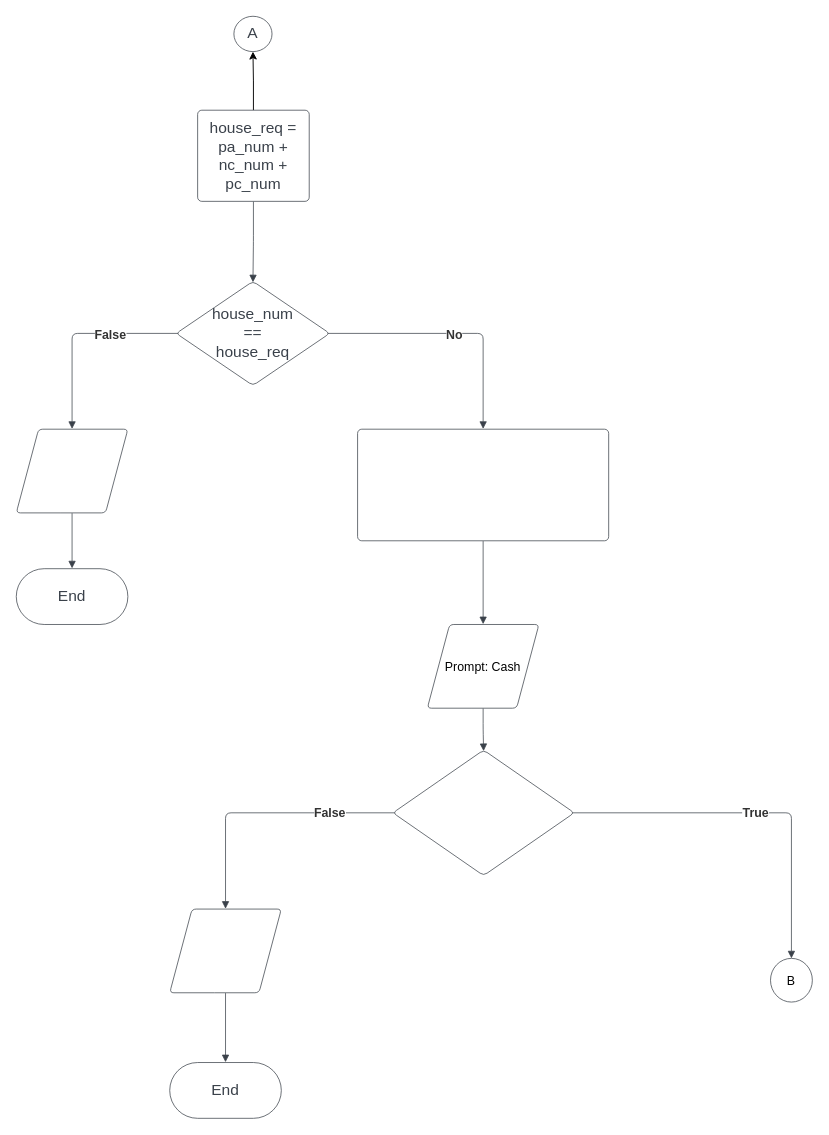
The diagram is 829 pixels wide and 1135 high, and some of its shapes have lost their labels. Here are the shapes that lost their labels. From the top down, the centre of each, then its label:
the point at 71,470: Out: No Houses
the point at 483,484: cash_req = (pa_num + nc_num + pc_num) * 200
the point at 483,812: user_cash >= cash_req
the point at 225,950: Out: Cash
